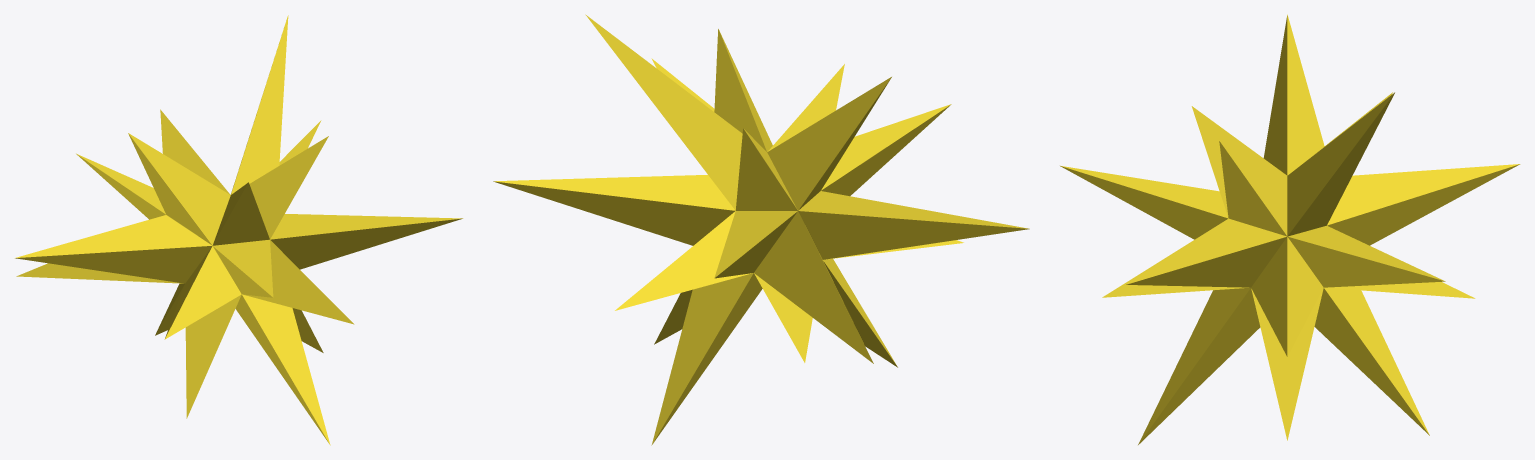
Rendered from explosion.obj.
3 renders of one model, left to right at view 1: azimuth 30°, elevation 25°; view 2: azimuth 150°, elevation 25°; view 3: azimuth 270°, elevation 25°, orthographic. The views are drawn at different scales.
Parts seen in each view (by area): view 1: Icosphere; view 2: Icosphere; view 3: Icosphere.
Boxes of the visible parts, bbox=[...] form: Icosphere: bbox=[14, 15, 463, 445]; Icosphere: bbox=[493, 14, 1029, 445]; Icosphere: bbox=[1060, 14, 1520, 444].
Size of the model in its own units: 7.05 by 5.92 by 6.31.
